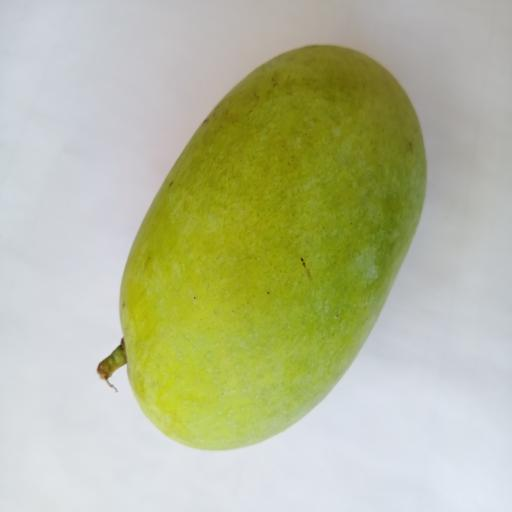mango-unripe: (79, 21, 428, 461)
